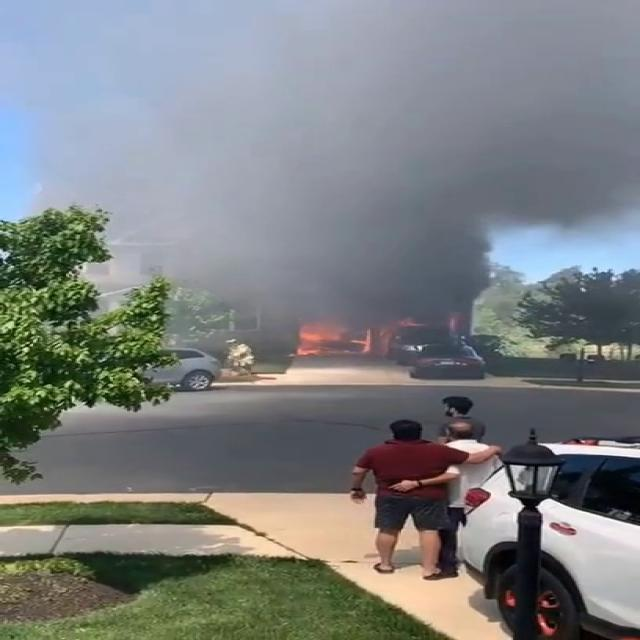Smoke: (74, 0, 638, 338)
